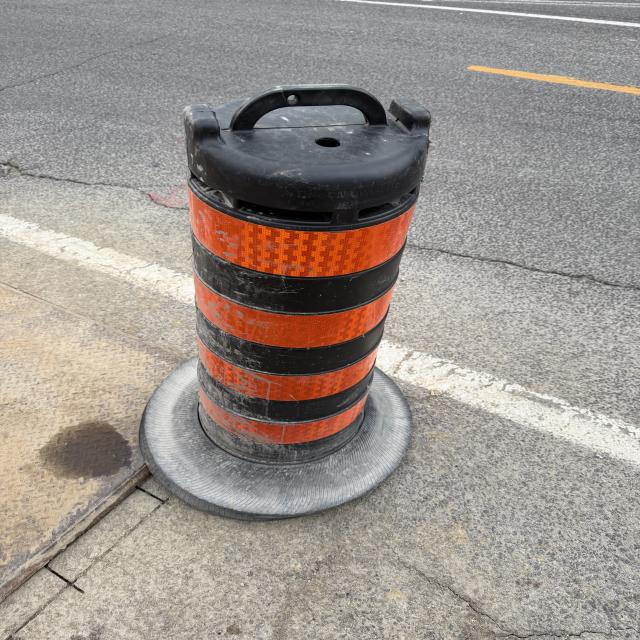Teraffic Barrel: (140, 85, 430, 519)
